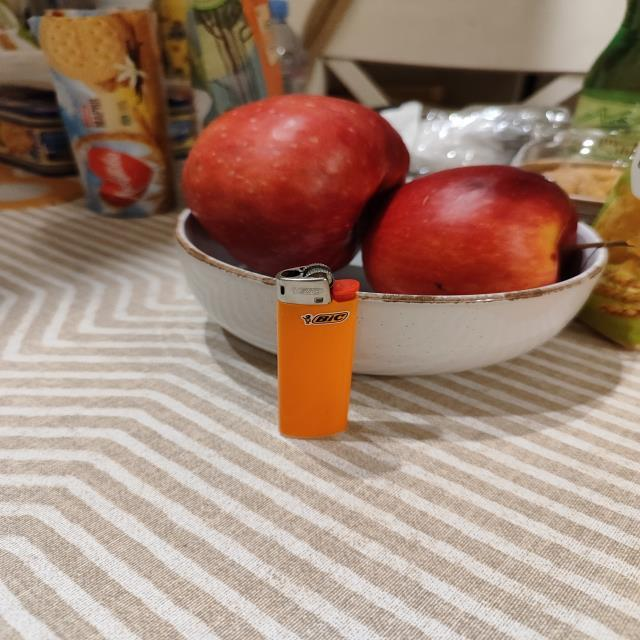lighter: (277, 271, 357, 437)
